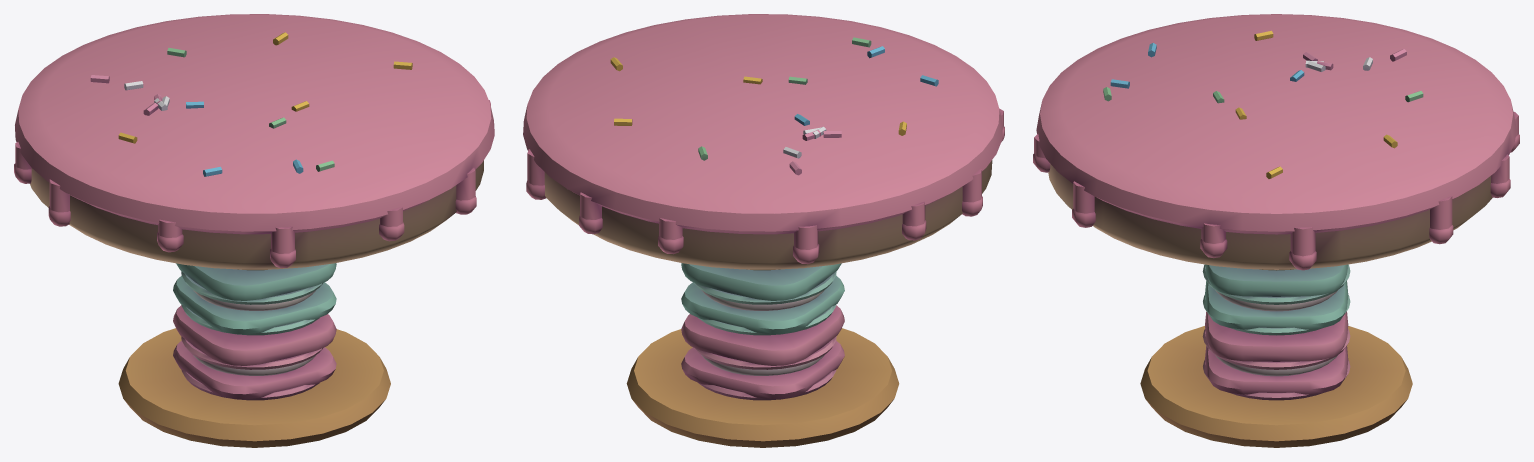
File: table_candy.glb
3 renders of one model, left to right at view 1: azimuth 30°, elevation 25°; view 2: azimuth 150°, elevation 25°; view 3: azimuth 270°, elevation 25°, orthographic.
Parts seen in each view (by area): view 1: table_candy; view 2: table_candy; view 3: table_candy.
Part boxes in pixels (x1=…): table_candy: x1=14, y1=14, x2=494, y2=447; table_candy: x1=523, y1=14, x2=1004, y2=447; table_candy: x1=1033, y1=14, x2=1519, y2=447.
Size of the model in its own units: 1.36 by 0.911 by 1.36.
